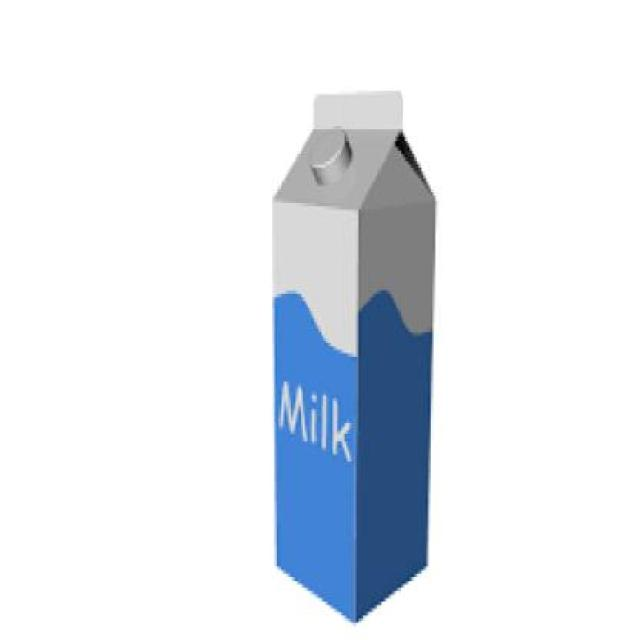CARDBOARD: (270, 87, 428, 616)
